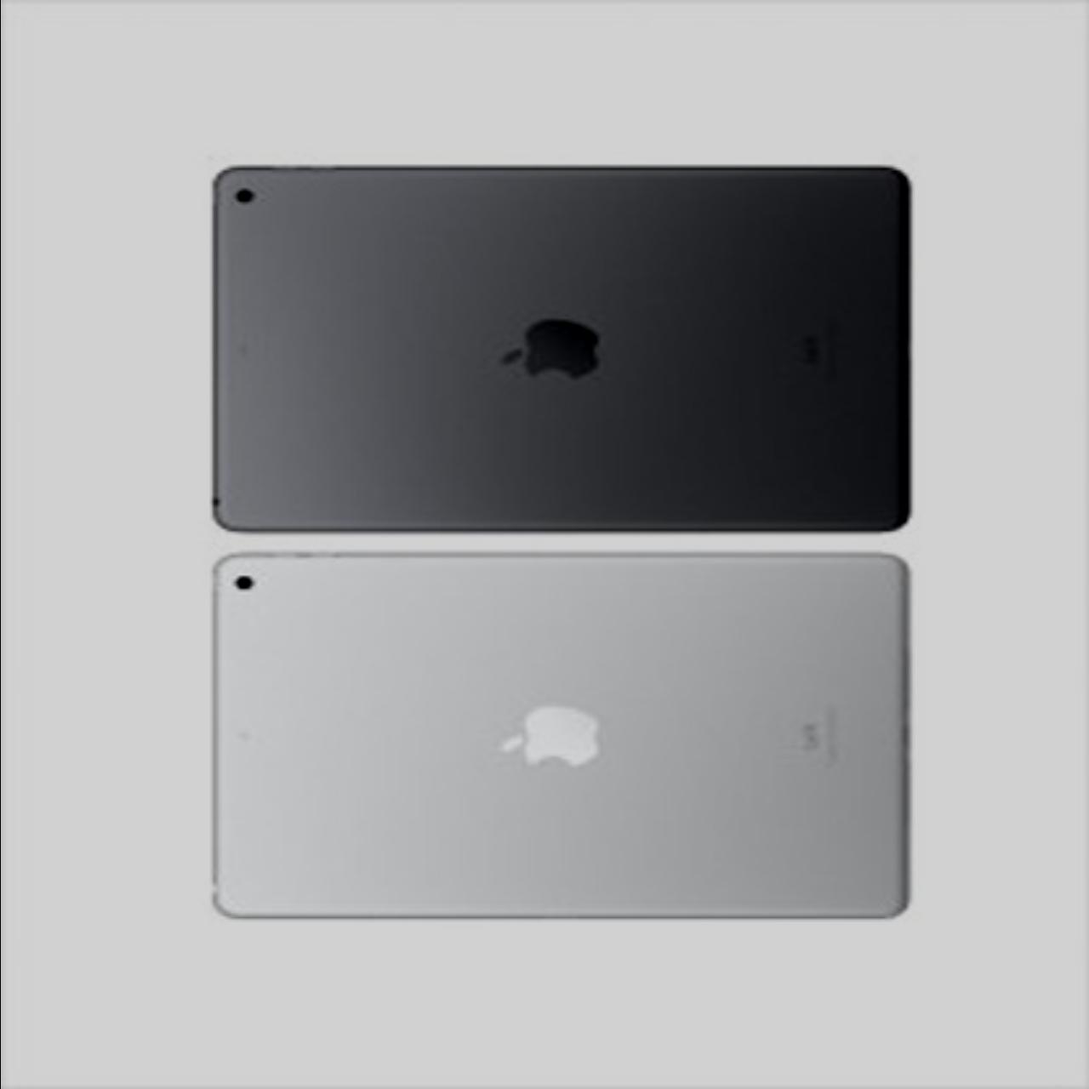Tablet_PC: (202, 529, 916, 929), (202, 160, 924, 544)
